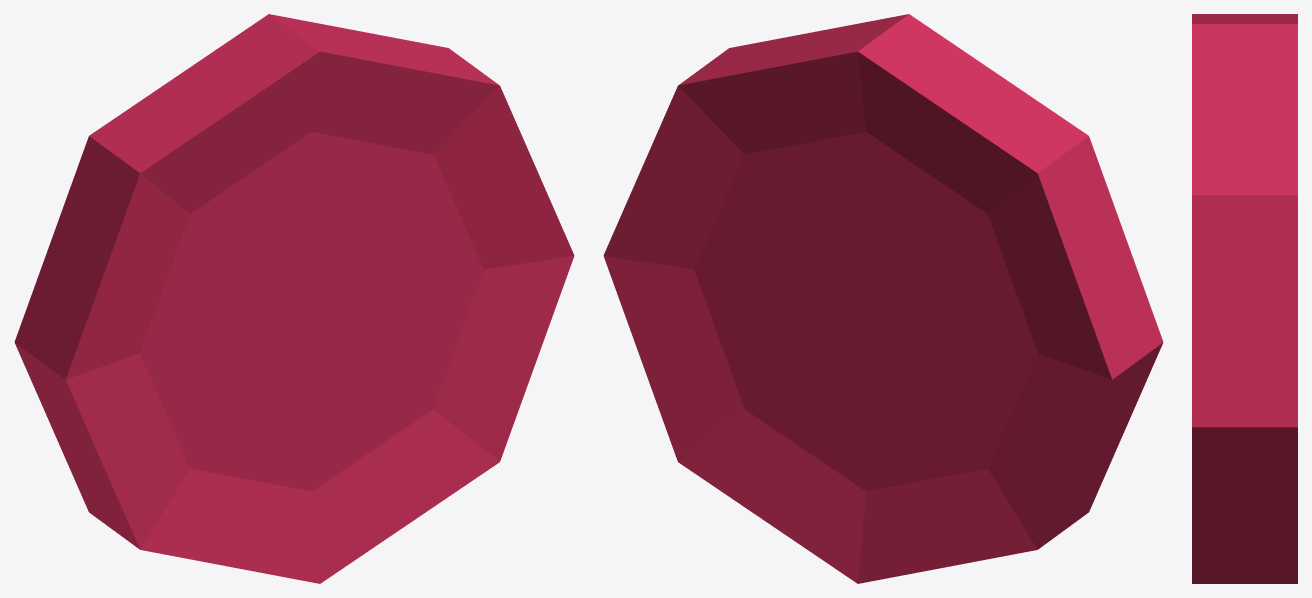
The model's file is coin-red.gltf.
3 renders of one model, left to right at view 1: azimuth 30°, elevation 25°; view 2: azimuth 150°, elevation 25°; view 3: azimuth 270°, elevation 25°, orthographic. The views are drawn at different scales.
Visible parts, largest first — view 1: Cylinder.001; view 2: Cylinder.001; view 3: Cylinder.001.
Part boxes in pixels (bbox=[...]): Cylinder.001: bbox=[14, 14, 574, 583]; Cylinder.001: bbox=[603, 14, 1163, 583]; Cylinder.001: bbox=[1192, 14, 1297, 583].
Bounding box in the file's own units: 0.505 × 0.505 × 0.0882.
